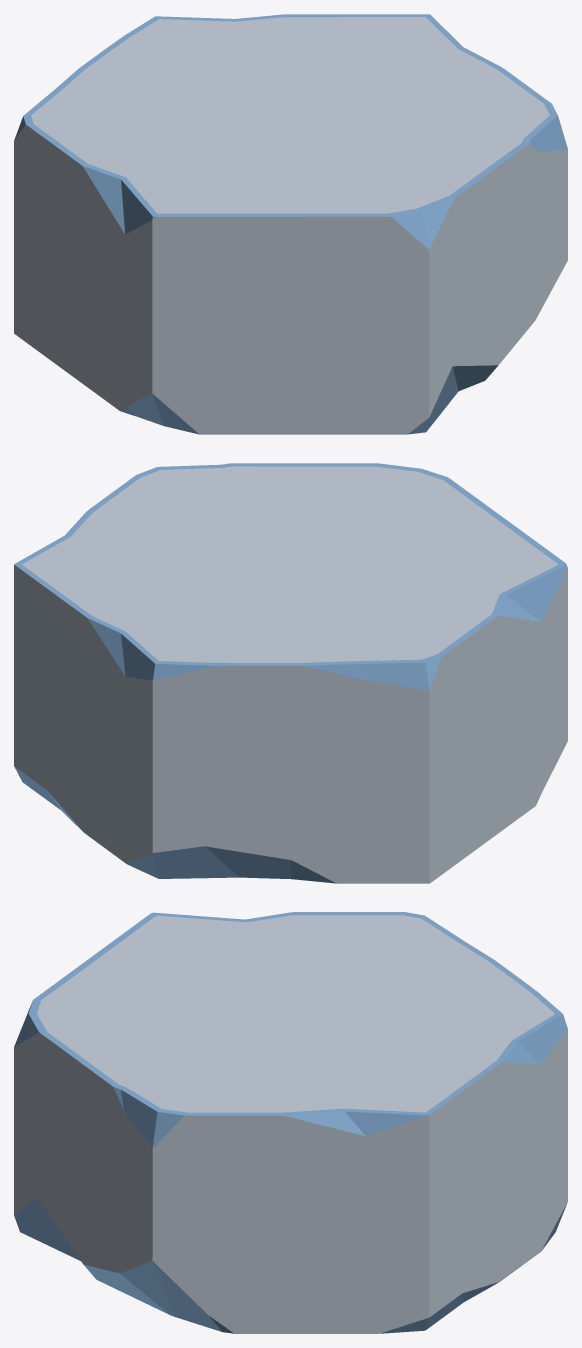
Rendered from hex_2.fbx.
3 views of the same model, one above another, from view 1: azimuth 30°, elevation 25°; view 2: azimuth 150°, elevation 25°; view 3: azimuth 270°, elevation 25° (orthographic).
Visible parts, largest first — view 1: Cylinder.154; view 2: Cylinder.154; view 3: Cylinder.154.
Boxes of the visible parts, <box> form: Cylinder.154: <box>14,14,567,434</box>; Cylinder.154: <box>14,463,567,883</box>; Cylinder.154: <box>14,912,567,1333</box>.
Bounding box in the file's own units: 99.9 × 50 × 115.
